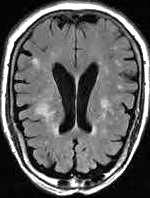Normal_Brain: (2, 1, 150, 198)
